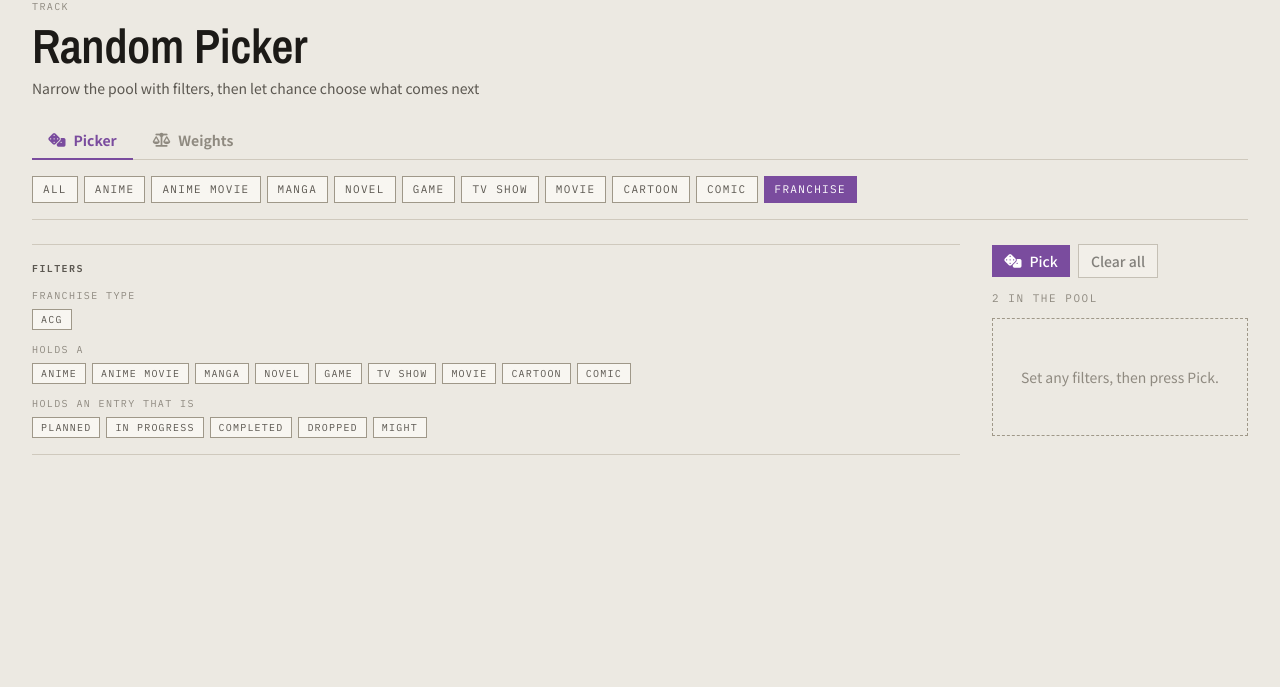
Scenario: draws a franchise in the franchise mode, unweighted, narrowed by what it holds
Check: the text "2 in the pool" is shown, box [992,290,1098,306]
Click the button "Manga".
click(222, 373)  # box [195,362,249,384]
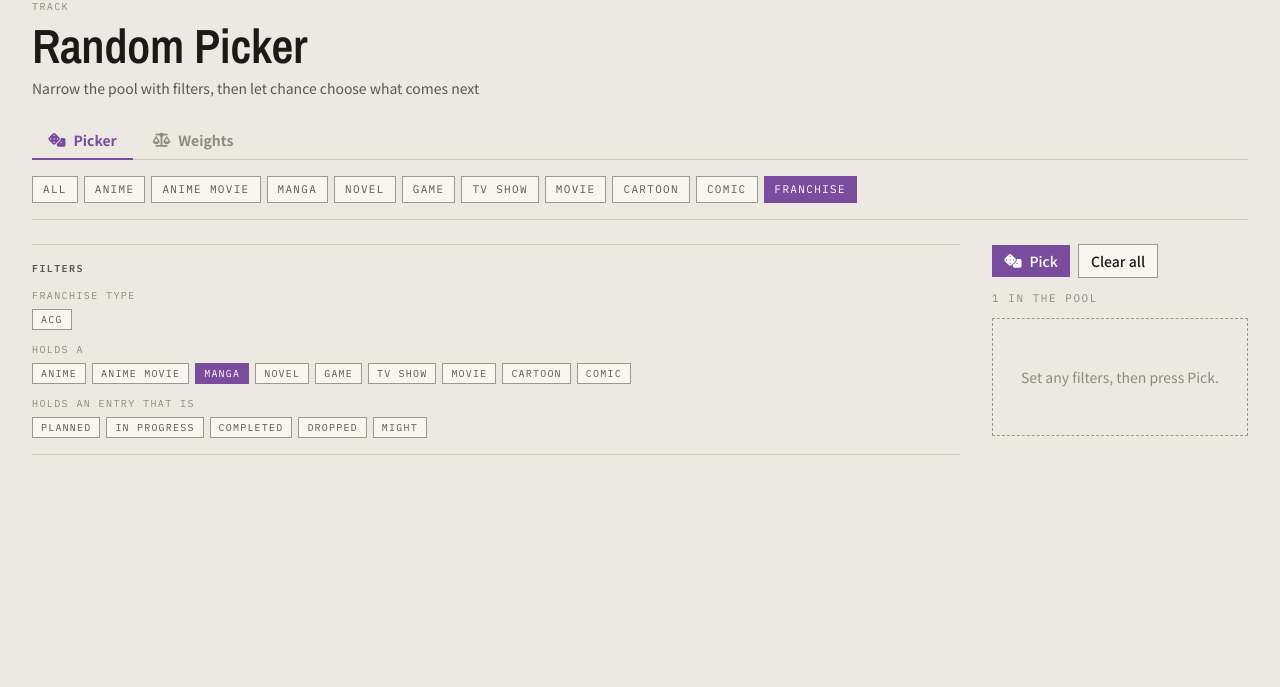
Check: the text "1 in the pool" is shown, box [992,290,1098,306]
Click the button "Pick".
click(1031, 260)  # box [992,244,1070,276]
(page scrolled)
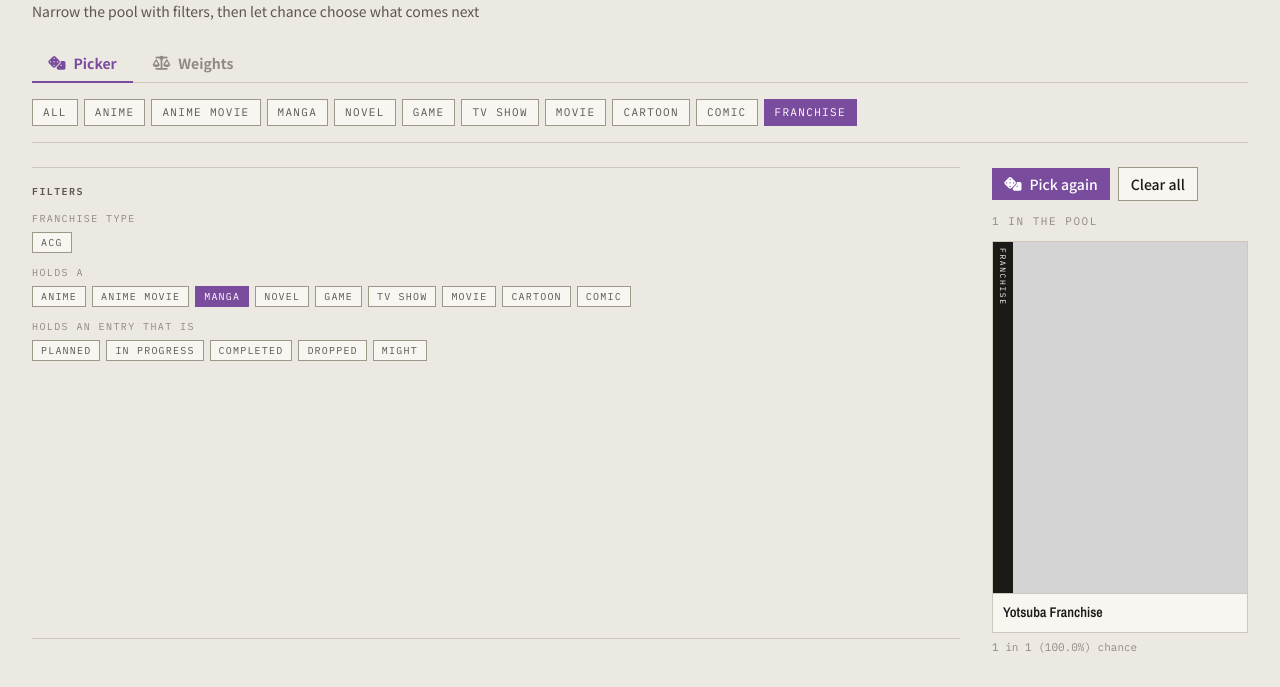
Check: the heading "Yotsuba Franchise" is shown, box [1003,603,1103,621]
Check: the text "1 in 1 (100.0%) chance" is shown, box [992,640,1137,654]
